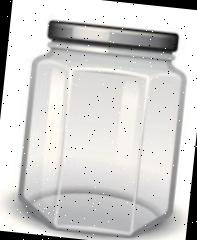glass: (14, 17, 191, 240)
